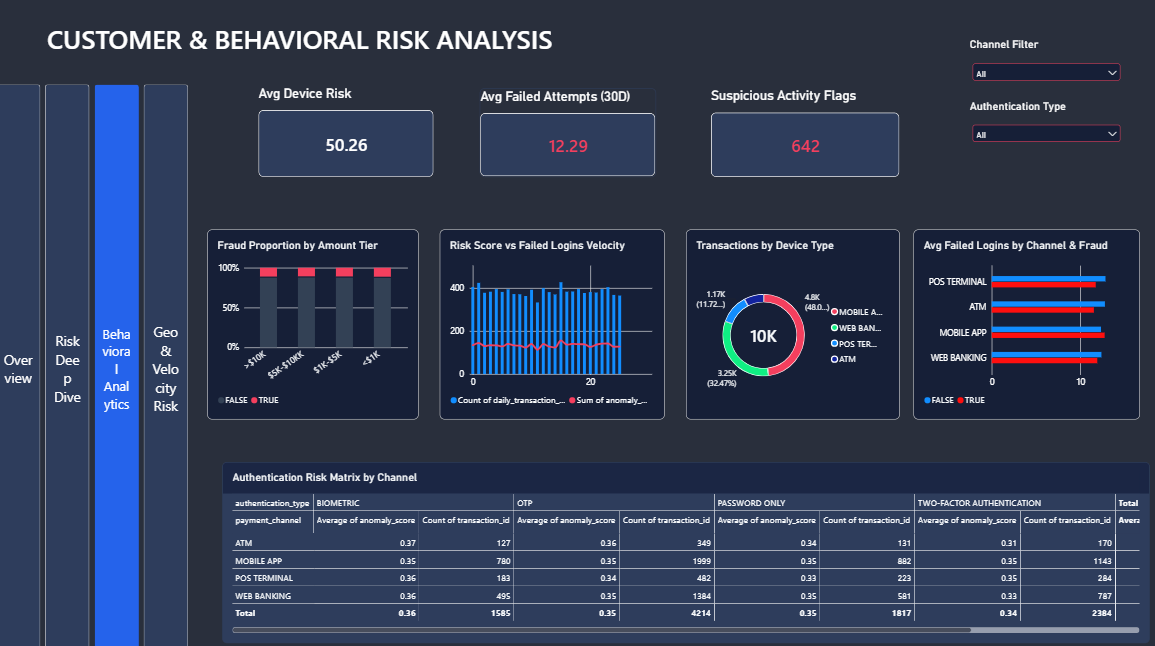

What the dashboard file says about the page in this screenshot:
{"tool":"powerbi","page":{"name":"Behavioral Analytics","canvas":[1920,1080],"ordinal":2},"visuals":[{"type":"cardVisual","title":"Avg Failed Attempts (30D)","fields":{"Data":["Avg(fact.failed_transactions_last_30d)"]},"box":[796.6,150.3,290.2,146.1],"z":0},{"type":"cardVisual","title":"Suspicious Activity Flags","fields":{"Data":["Sum(fact.suspicious_ip_flag)"]},"box":[1177.4,150.3,310.8,146.1],"z":1000},{"type":"cardVisual","title":"Avg Device Risk","fields":{"Data":["Avg(fact.device_risk_score)"]},"box":[432.2,146.1,288.2,150.3],"z":2000},{"type":"slicer","title":"Channel Filter","fields":{"Values":["fact.payment_channel"]},"box":[1603.4,67.9,253.2,72],"z":3000},{"type":"slicer","title":"Authentication Type","fields":{"Values":["fact.authentication_type"]},"box":[1603.4,168.8,253.2,113.2],"z":4000},{"type":"cardVisual","fields":{"Data":["fact.page 3"]},"box":[67.9,10.3,1090.9,115.3],"z":5000},{"type":"pageNavigator","box":[0,144.1,319,936.5],"z":6000},{"type":"hundredPercentStackedColumnChart","title":"Fraud Proportion by Amount Tier","fields":{"Category":["fact.Amount_Tier"],"Y":["Sum(fact.transaction_id)"],"Series":["fact.fraud_flag"]},"box":[347.9,382.8,347.9,312.9],"z":7000},{"type":"lineClusteredColumnComboChart","title":"Risk Score vs Failed Logins Velocity","fields":{"Category":["fact.failed_transactions_last_30d"],"Y":["CountNonNull(fact.daily_transaction_count)"],"Y2":["Sum(fact.anomaly_score)"]},"box":[730.7,382.8,370.5,312.9],"z":8000},{"type":"pivotTable","title":"Authentication Risk Matrix by Channel","fields":{"Columns":["fact.authentication_type"],"Values":["Avg(fact.anomaly_score)","CountNonNull(fact.transaction_id)"],"Rows":["fact.payment_channel"]},"box":[372.6,765.7,1527.3,298.5],"z":9000},{"type":"donutChart","title":"Transactions by Device Type","fields":{"Category":["fact.payment_channel"],"Y":["CountNonNull(fact.transaction_id)"]},"box":[1136.2,382.8,352,312.9],"z":10000},{"type":"clusteredBarChart","title":"Avg Failed Logins by Channel & Fraud","fields":{"Category":["fact.payment_channel"],"Y":["Avg(fact.failed_transactions_last_30d)"],"Series":["fact.fraud_flag"]},"box":[1510.8,382.8,372.6,312.9],"z":11000}]}

Visuals, with their boxes on the page's 1920x1080 design canvas (x1, y1, x2, y2). These are canvas units, not pixel positions in the 1155x646 screenshot, which may show the page scaled, cropped or inside an application window:
"Avg Failed Attempts (30D)" cardVisual: x1=797, y1=150, x2=1087, y2=296
"Suspicious Activity Flags" cardVisual: x1=1177, y1=150, x2=1488, y2=296
"Avg Device Risk" cardVisual: x1=432, y1=146, x2=720, y2=296
"Channel Filter" slicer: x1=1603, y1=68, x2=1857, y2=140
"Authentication Type" slicer: x1=1603, y1=169, x2=1857, y2=282
cardVisual - fact.page 3: x1=68, y1=10, x2=1159, y2=126
pageNavigator: x1=0, y1=144, x2=319, y2=1081
"Fraud Proportion by Amount Tier" hundredPercentStackedColumnChart: x1=348, y1=383, x2=696, y2=696
"Risk Score vs Failed Logins Velocity" lineClusteredColumnComboChart: x1=731, y1=383, x2=1101, y2=696
"Authentication Risk Matrix by Channel" pivotTable: x1=373, y1=766, x2=1900, y2=1064
"Transactions by Device Type" donutChart: x1=1136, y1=383, x2=1488, y2=696
"Avg Failed Logins by Channel & Fraud" clusteredBarChart: x1=1511, y1=383, x2=1883, y2=696
